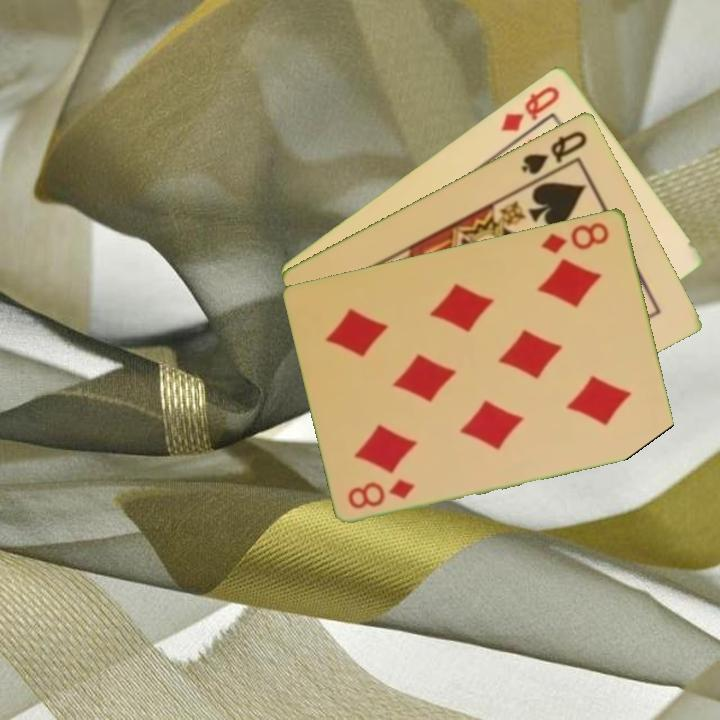8d: (538, 218, 613, 256), (344, 475, 418, 512)
Qd: (497, 82, 563, 134)
Qs: (517, 127, 591, 177)
